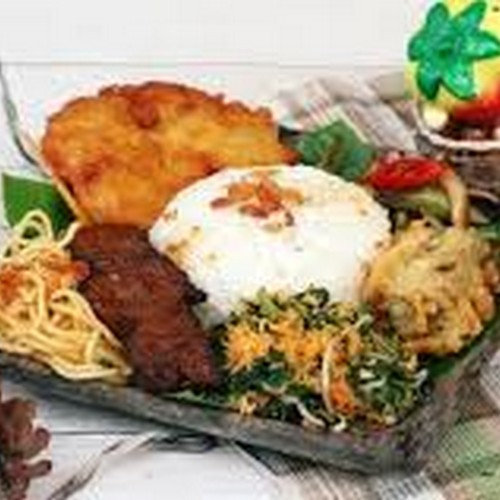nasi campur bali: (20, 109, 424, 415)
